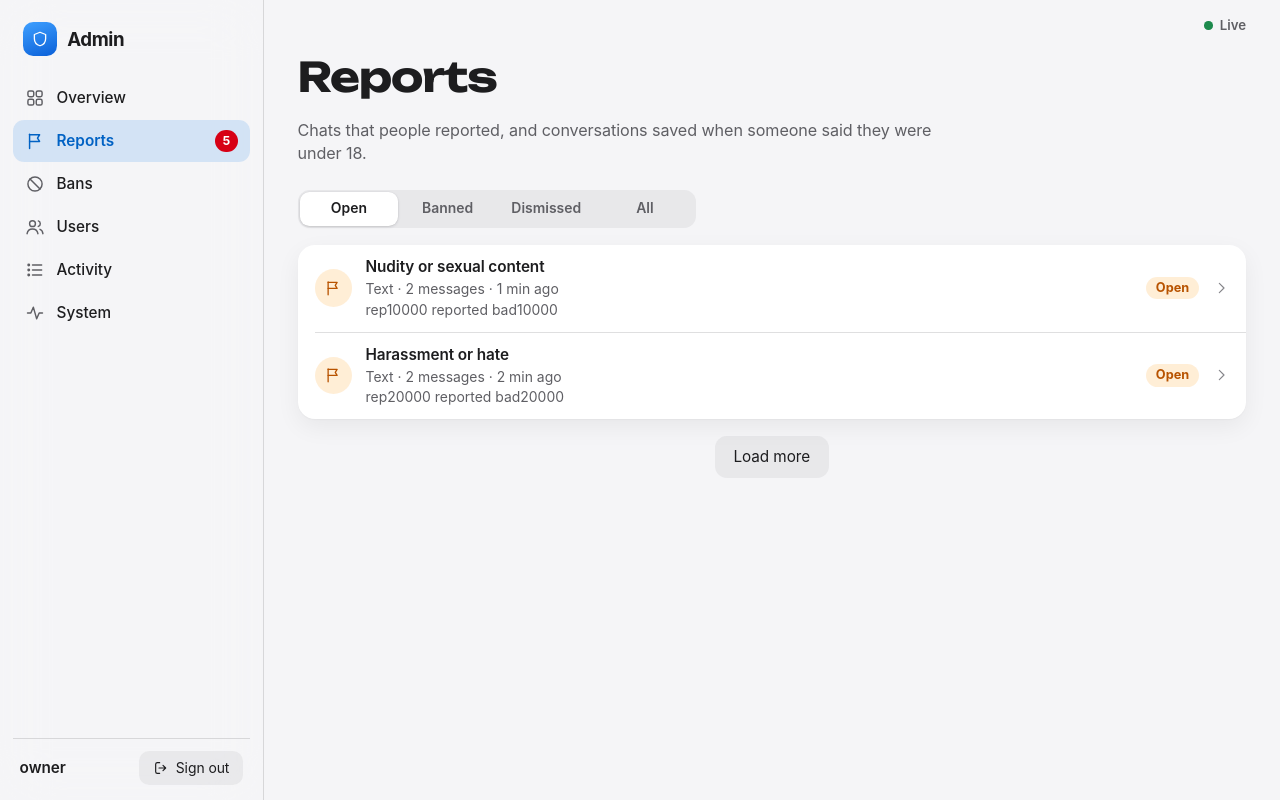
Test case: reports › loads more on request
Check: the list named "Reports" is shown, box [298,244,1246,419]
Check: the number of list items is 2, box [298,244,1246,332]; [298,332,1246,419]
What coordinates should you click on to do the following:
click the button "Load more"
I would click on:
 (772, 457)
Its box is [715,436,829,478].
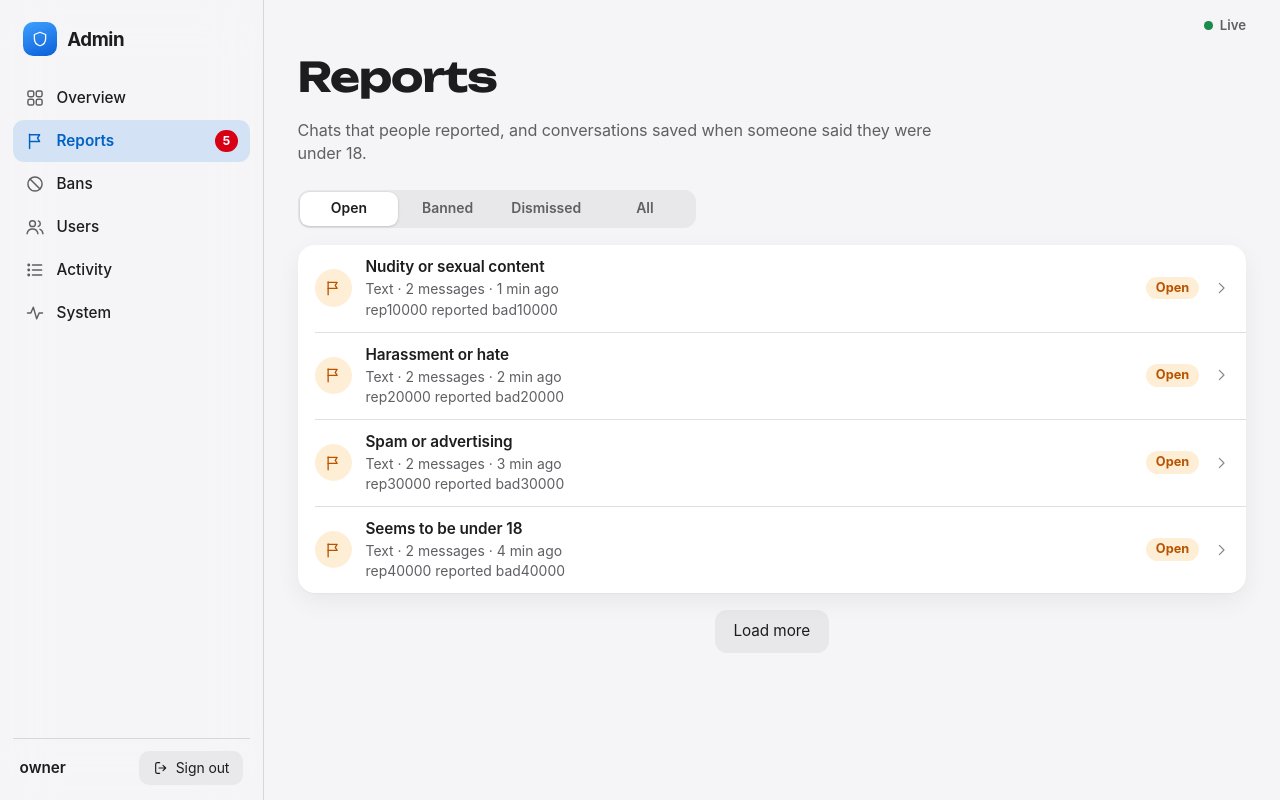
Check: the number of list items is 4, box [298,244,1246,332]; [298,332,1246,419]; [298,419,1246,506]; [298,506,1246,593]
What coordinates should you click on to do the following:
click the button "Load more"
I would click on:
 (772, 632)
Its box is [715,610,829,653].
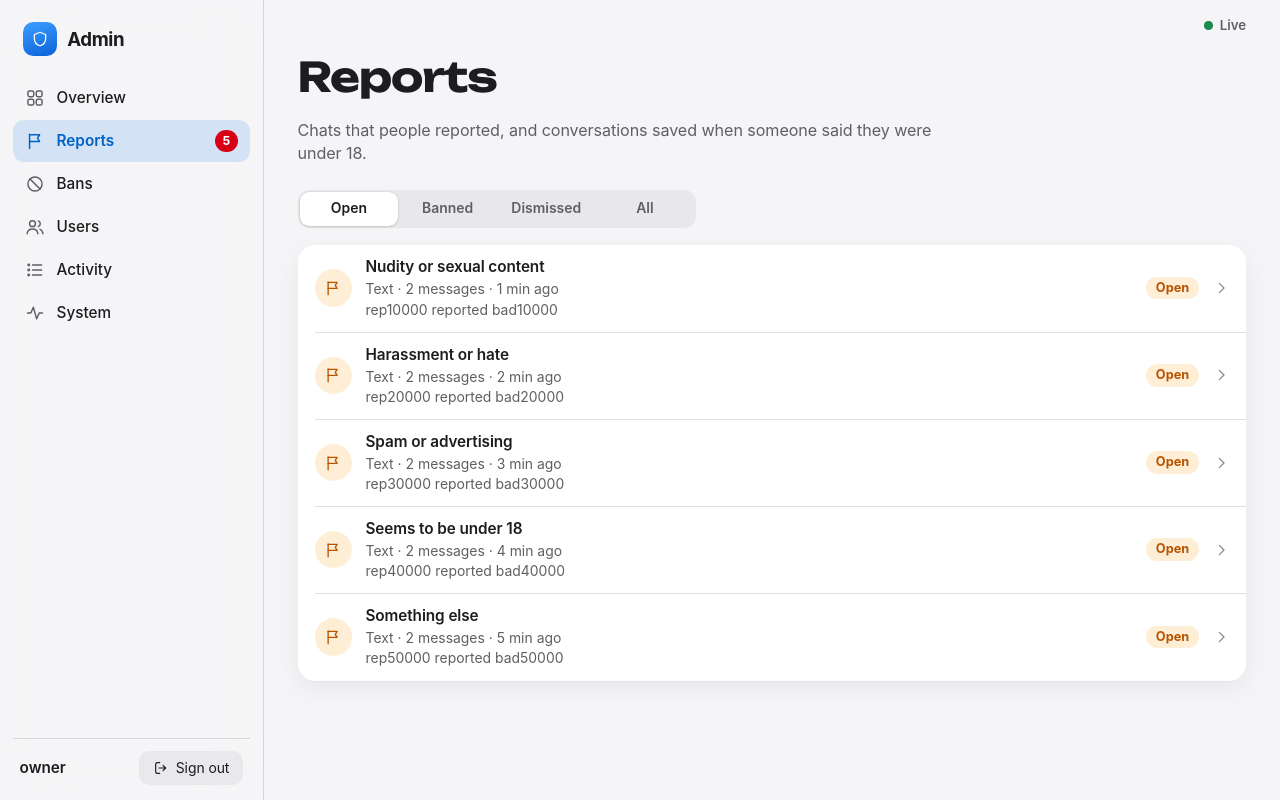
Check: the number of list items is 5, box [298,244,1246,332]; [298,332,1246,419]; [298,419,1246,506]; [298,506,1246,593]; [298,593,1246,680]
Check: the button "Load more" is gone
